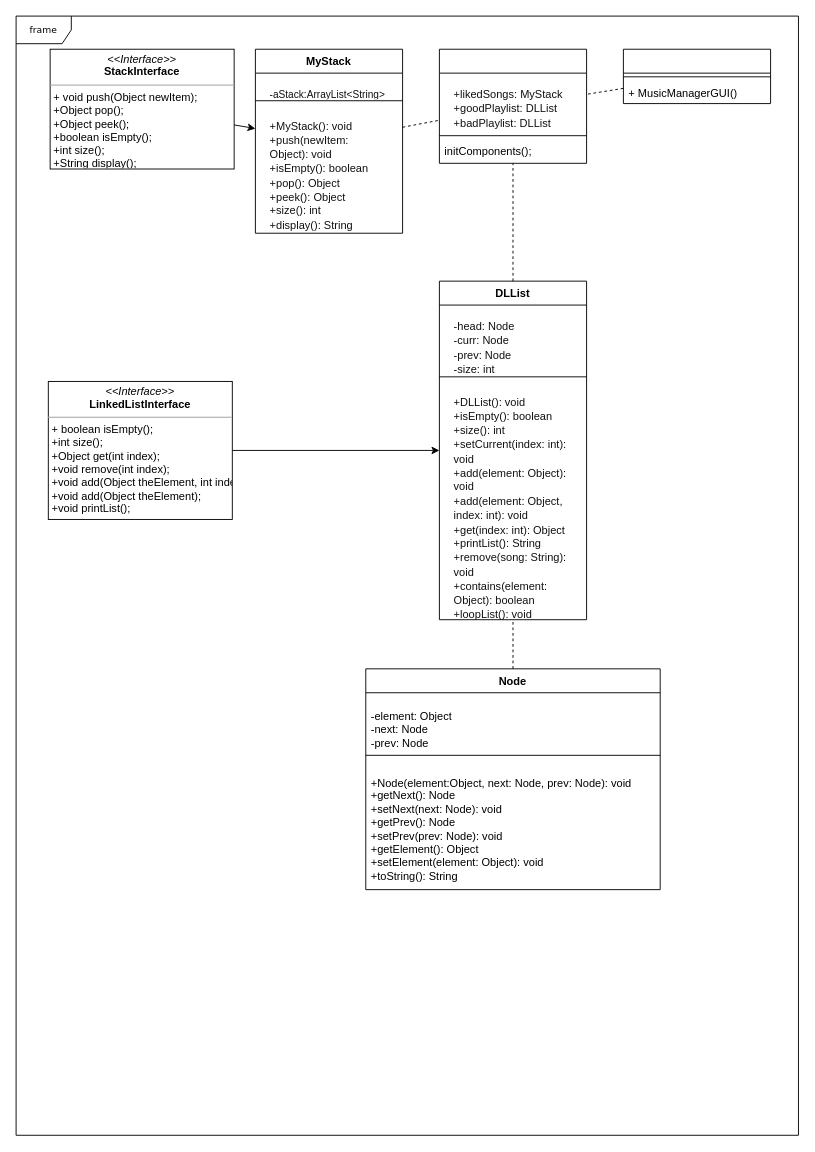
Image size: 815x1152. Some labels were removed from this diagram. Here are the shapes that lost their labels. From the top down, the box of each, then its label:
(622, 48, 771, 104): MusicManagerApp
(438, 48, 587, 163): MusicManagerGUI
